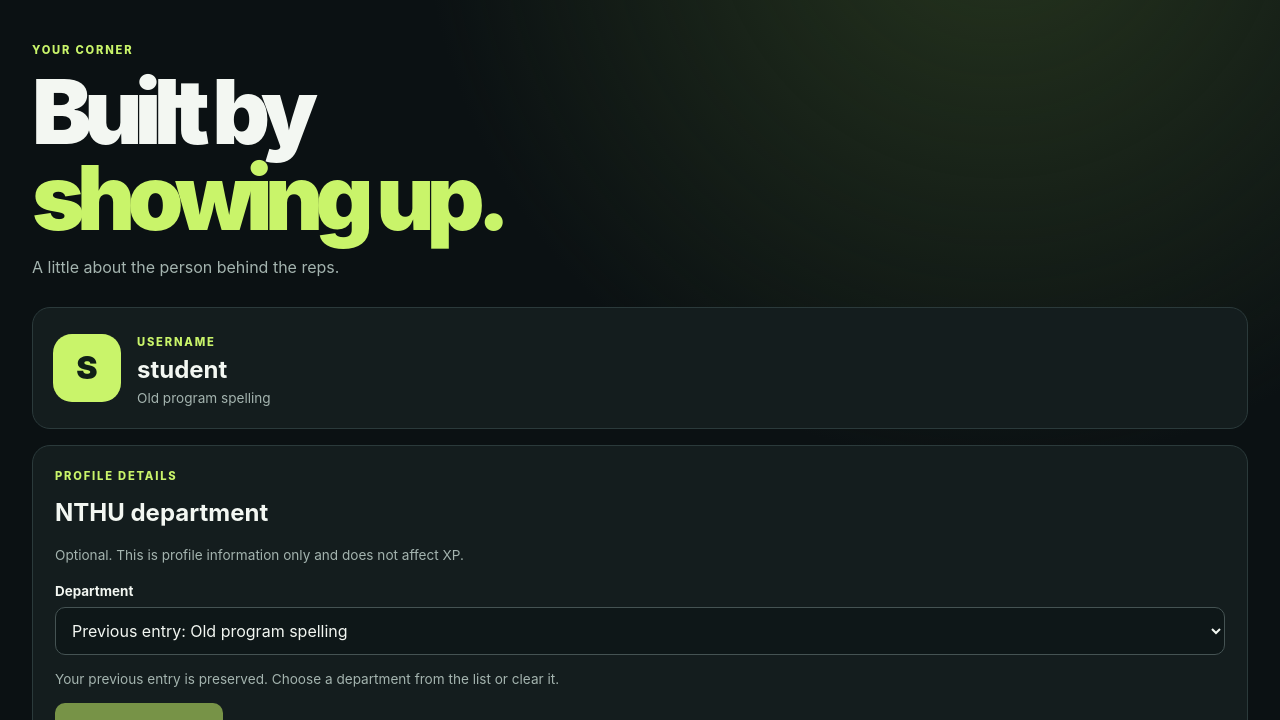
Test: unrecognized legacy text stays visible and cannot be silently saved or cleared
This screenshot has width=1280, height=720.
Expected: the text "Your previous entry is preserved" is shown, [55,671,559,687]
Expected: the text "Old program spelling" is shown, [137,388,271,408]
Select "CS — Computer Science" in the dropdown at (640, 631), box [55,607,1225,655]
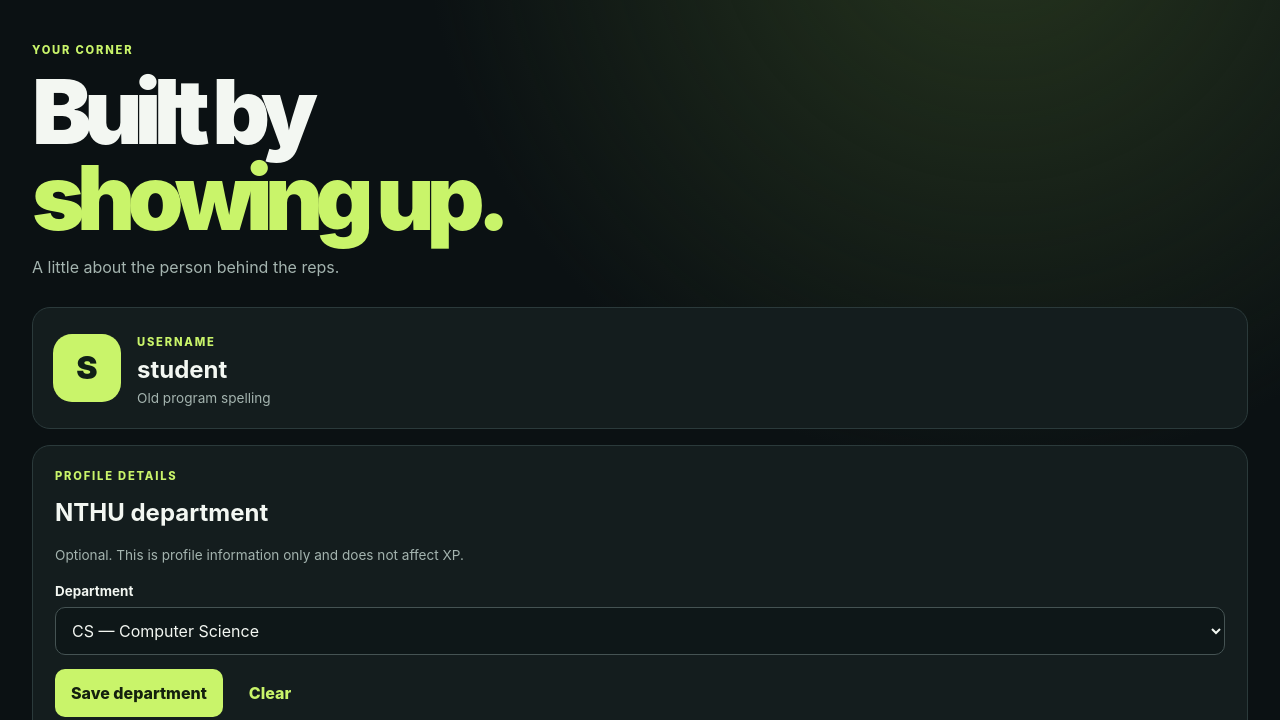
Click the button "Save department".
click(139, 693)  # box [55,669,223,717]
(page scrolled)
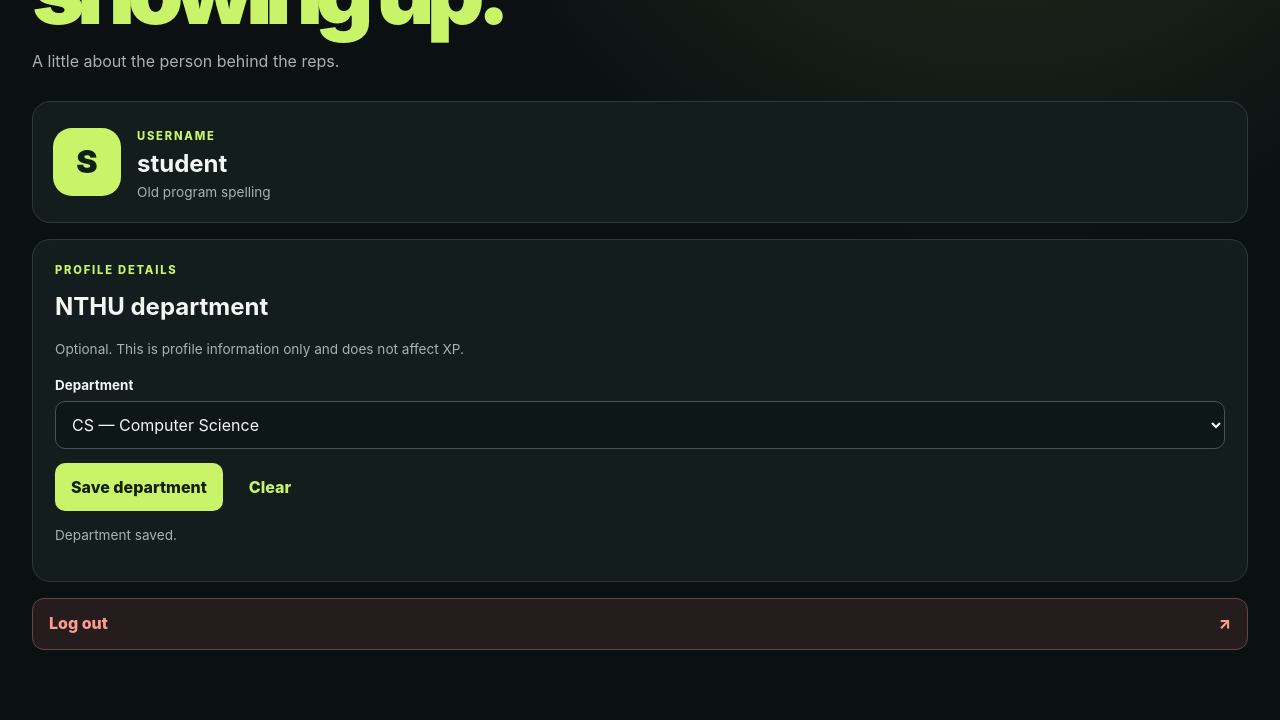
Now the text "Department saved." is shown, box [55,527,177,543]
